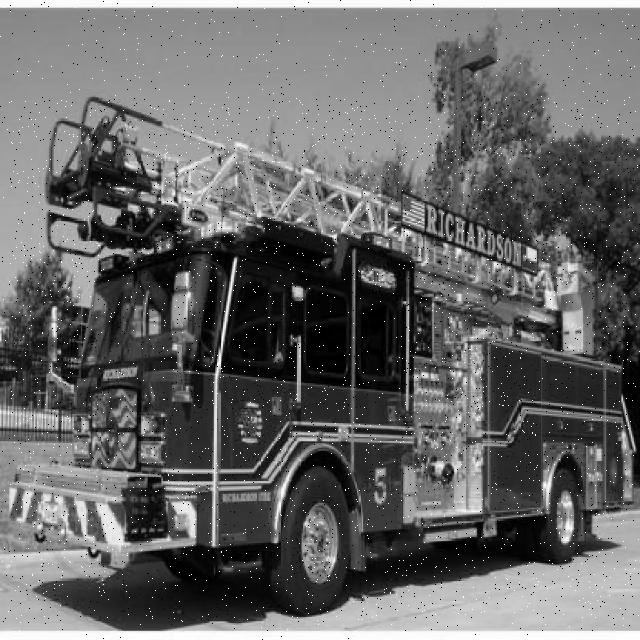Fire Truck: (8, 97, 636, 619)
